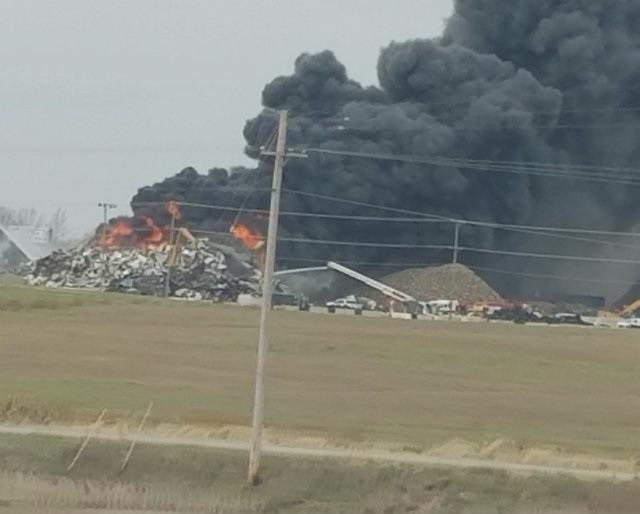fire: (107, 200, 168, 248), (224, 212, 272, 261)
